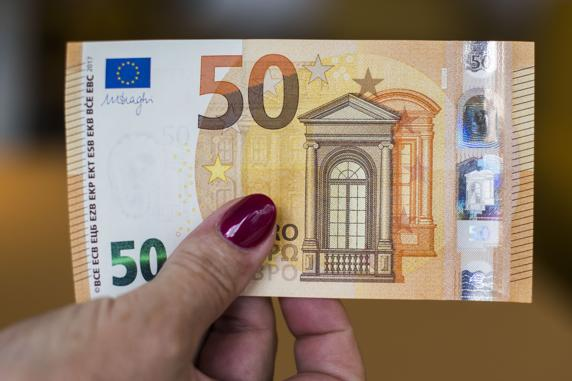billete: (60, 36, 537, 307)
